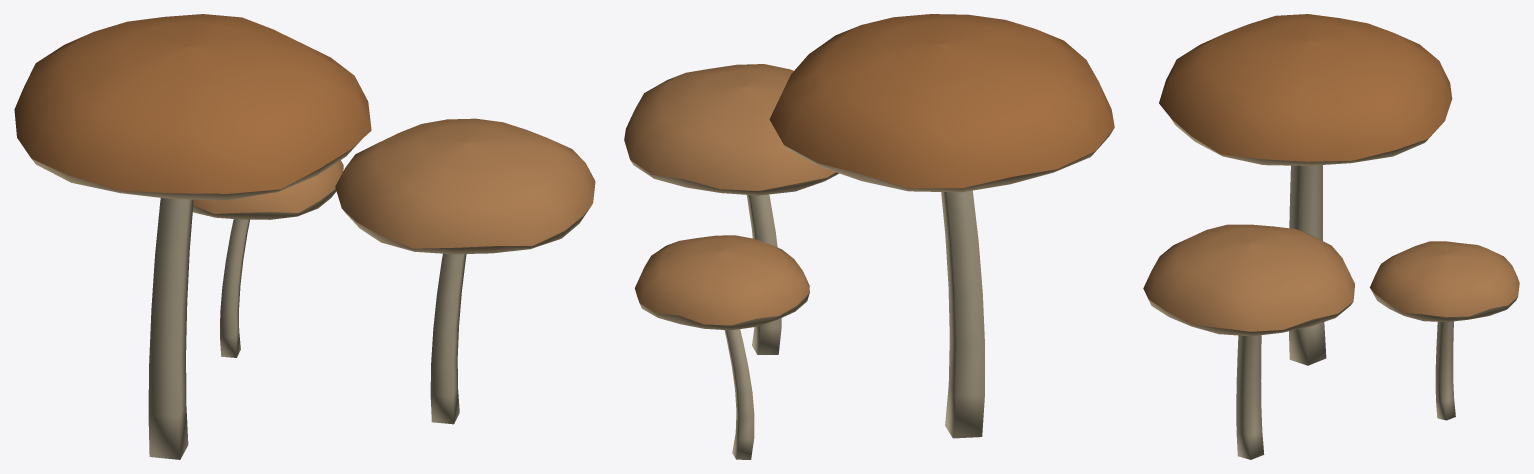
The model's file is meadow_mushrooms.glb.
3 views of the same model, side by side, from view 1: azimuth 30°, elevation 25°; view 2: azimuth 150°, elevation 25°; view 3: azimuth 270°, elevation 25° (orthographic). The views are drawn at different scales.
Parts seen in each view (by area): view 1: body; view 2: body; view 3: body.
Part boxes in pixels (x1=…): body: x1=14, y1=14, x2=595, y2=459; body: x1=624, y1=14, x2=1114, y2=459; body: x1=1143, y1=14, x2=1519, y2=459.
Size of the model in its own units: 0.2979 by 0.2216 by 0.231.
